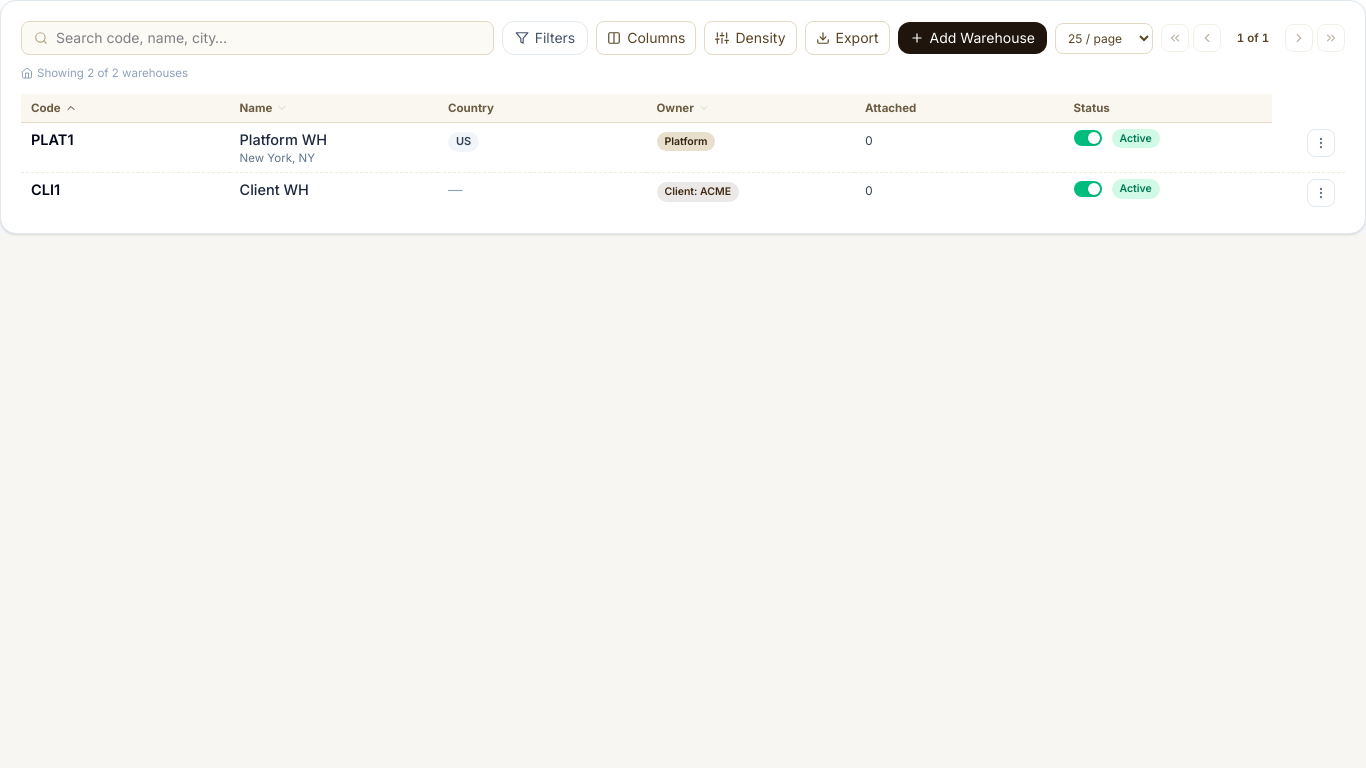
WarehouseEditorModal · audit fixes › 4.4: toggling owner to PLATFORM clears ownerClientCode state
Expected: the text "PLAT1" is shown, [31,131,74,148]
Click the button "Add Warehouse".
click(972, 38)  # box [898,22,1047,54]
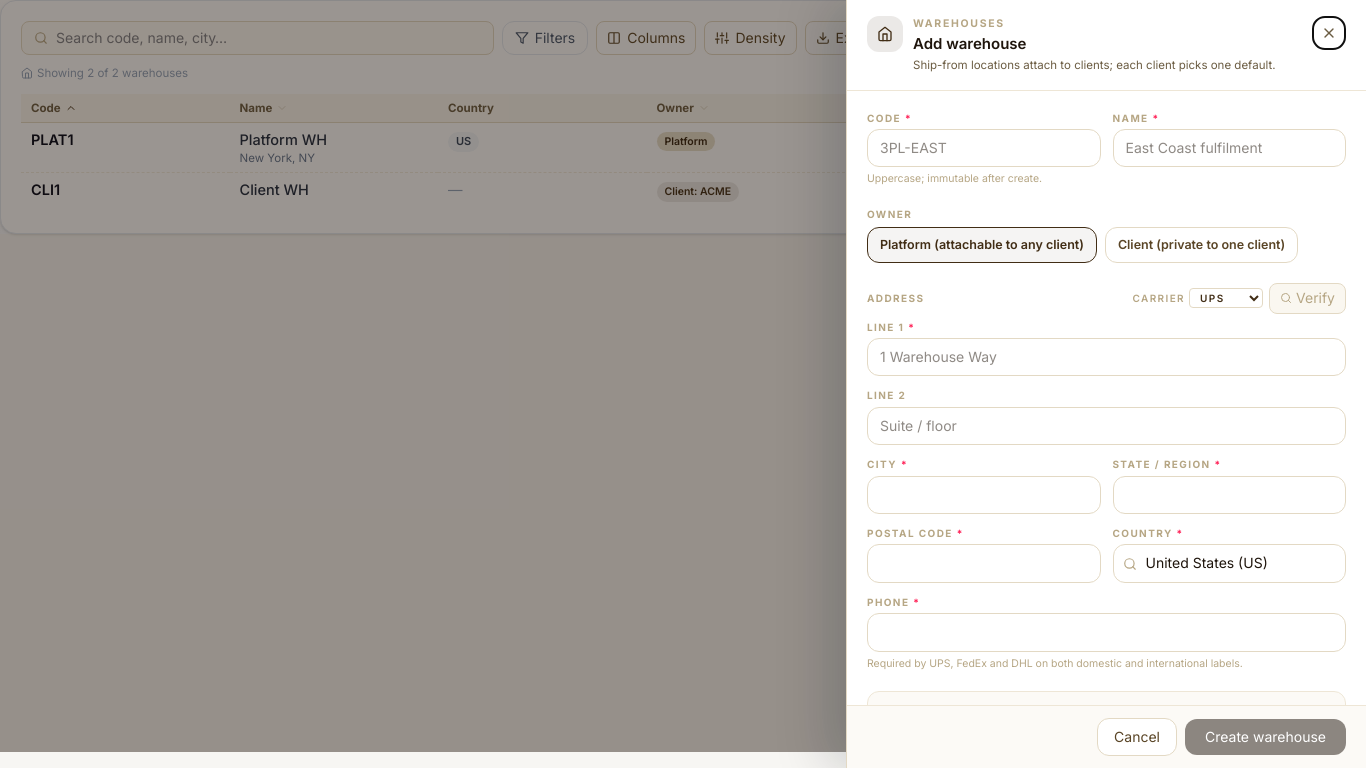
Note: Switch to CLIENT — client picker appears.
Click the radio button labelled "Client (private to one client)".
click(1202, 245)  # box [1105,227,1298,263]
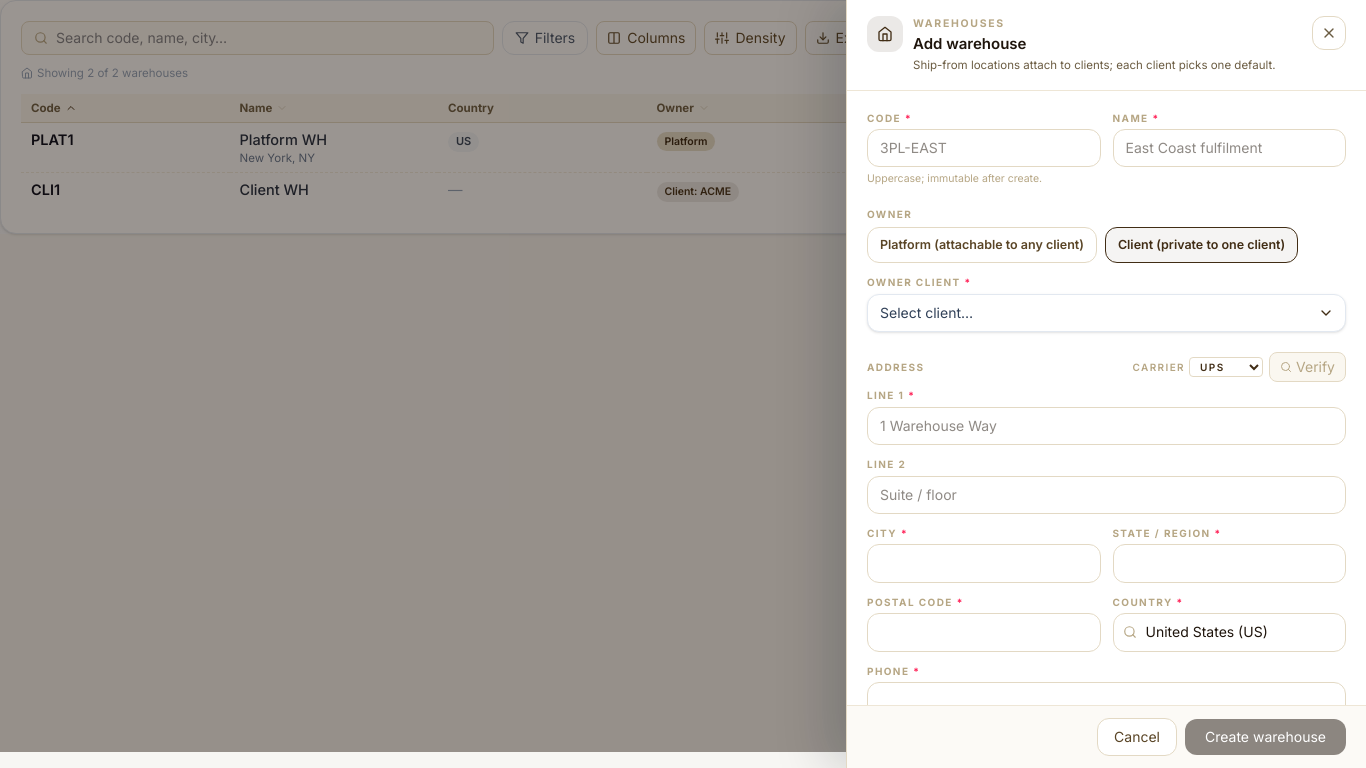
Select "ACME — ACME Co" in the dropdown named "Owner client" at (1106, 313), box [867,294,1346,332]
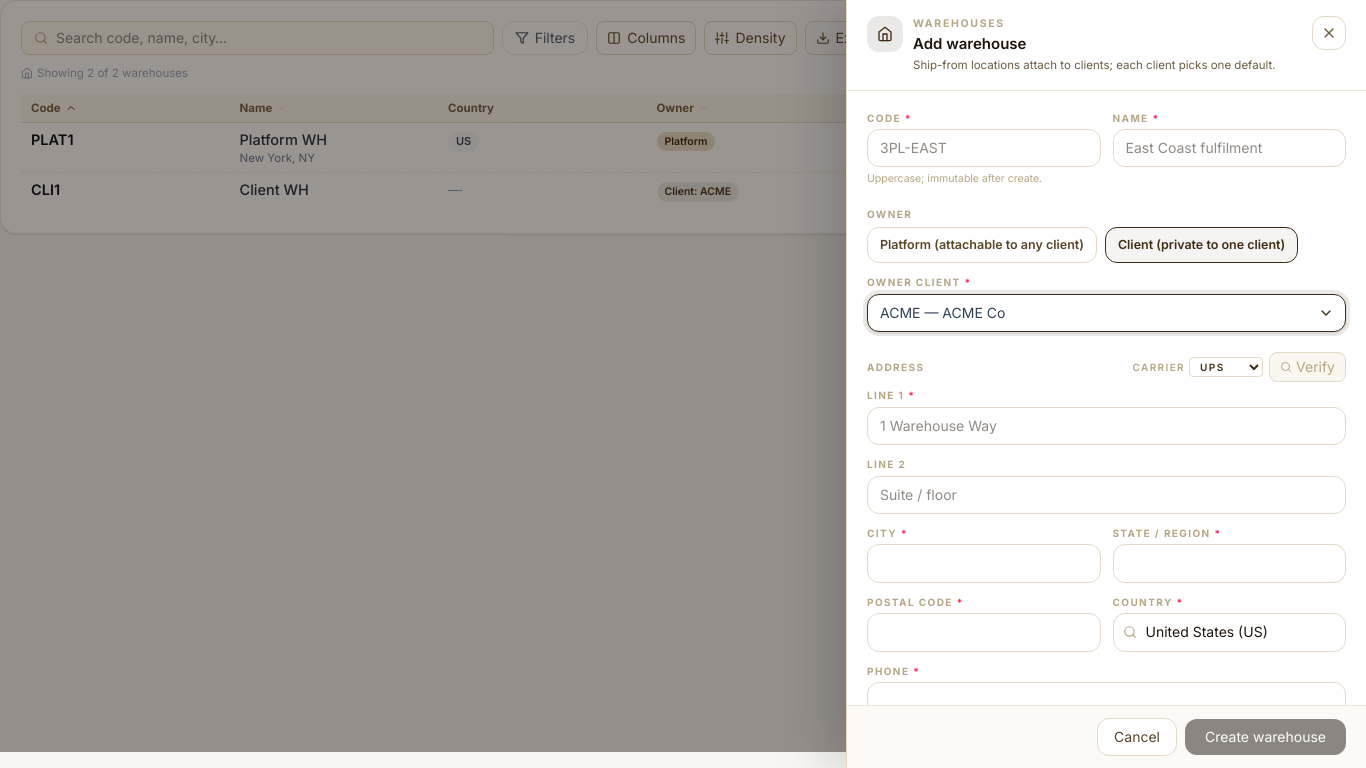
Click the radio button labelled "Platform (attachable to any client)".
click(982, 245)  # box [867,227,1097,263]
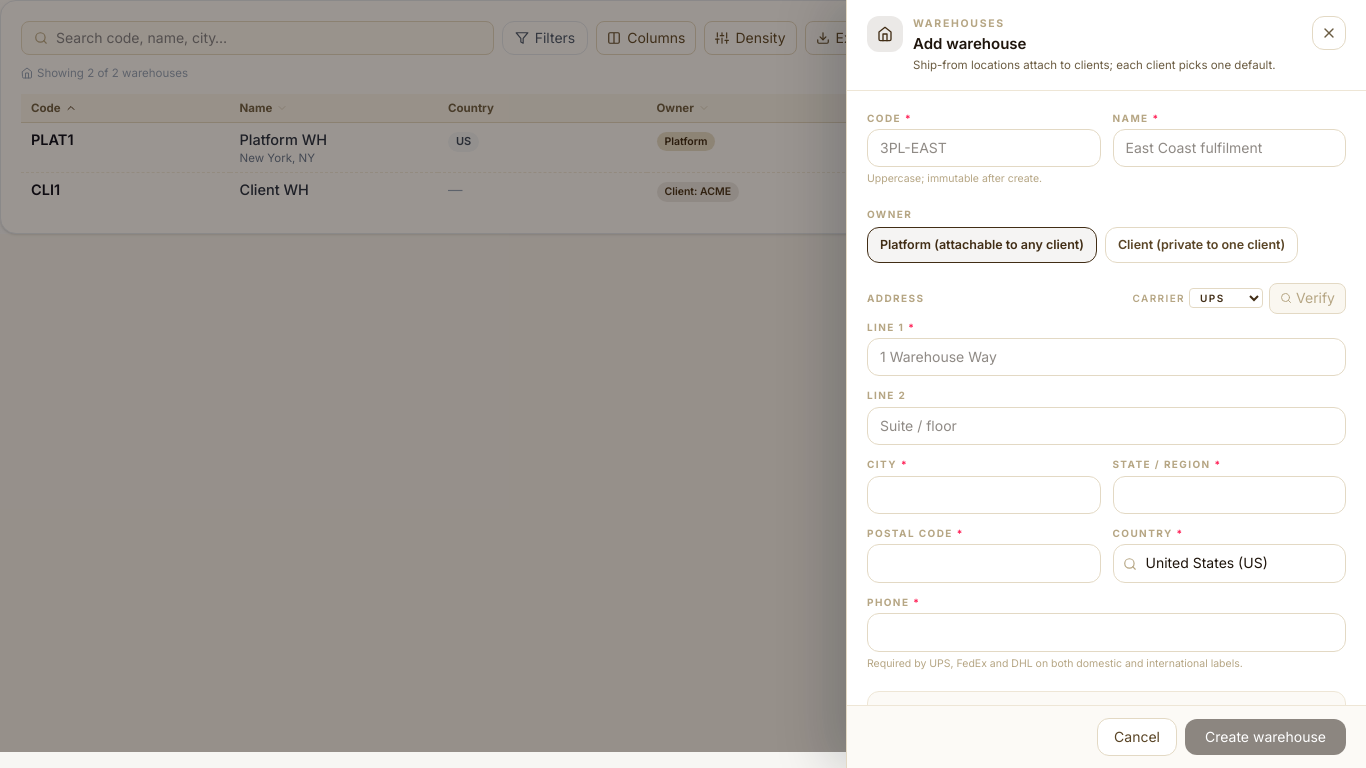
Expected: the label labelled "Owner client" is gone
Click the radio button labelled "Client (private to one client)".
click(1202, 245)  # box [1105,227,1298,263]
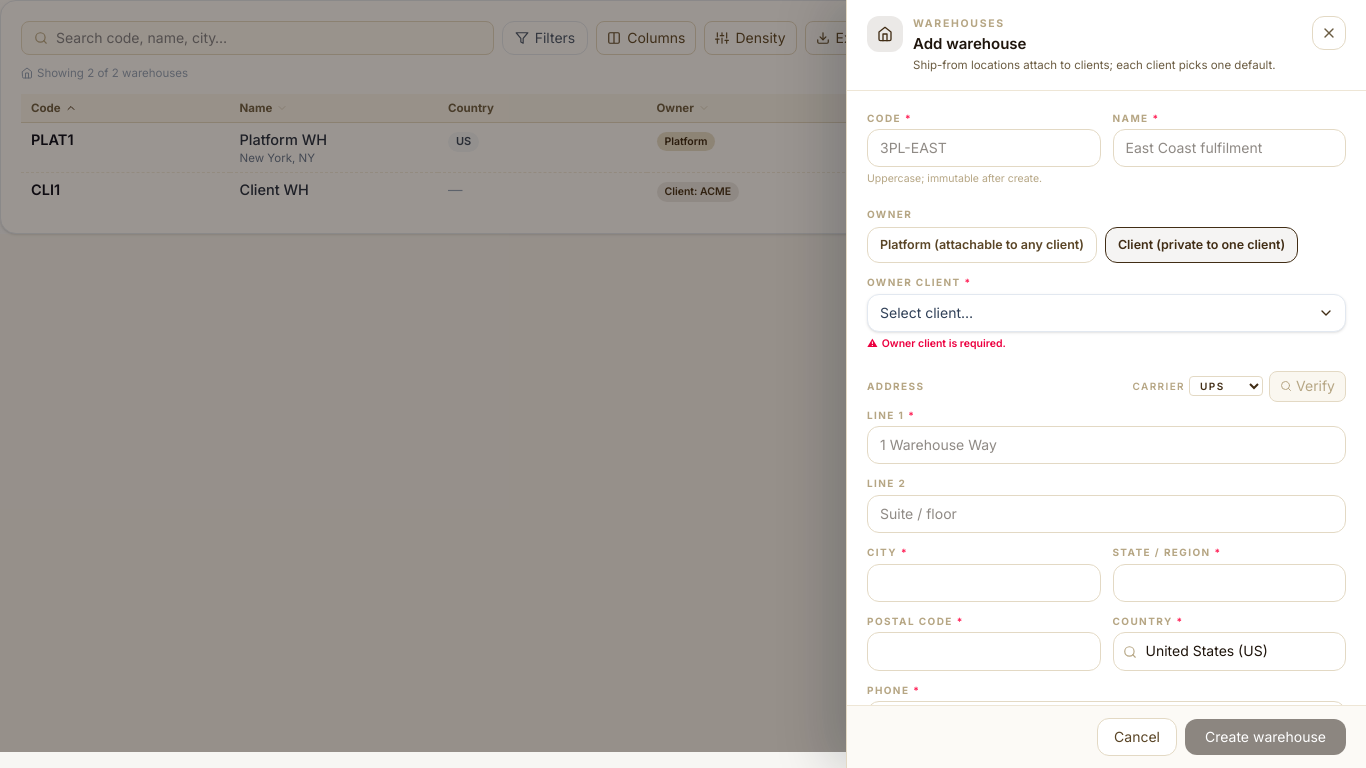
Expected: the dropdown named "Owner client" shows "Select client…", [867,294,1346,332]
